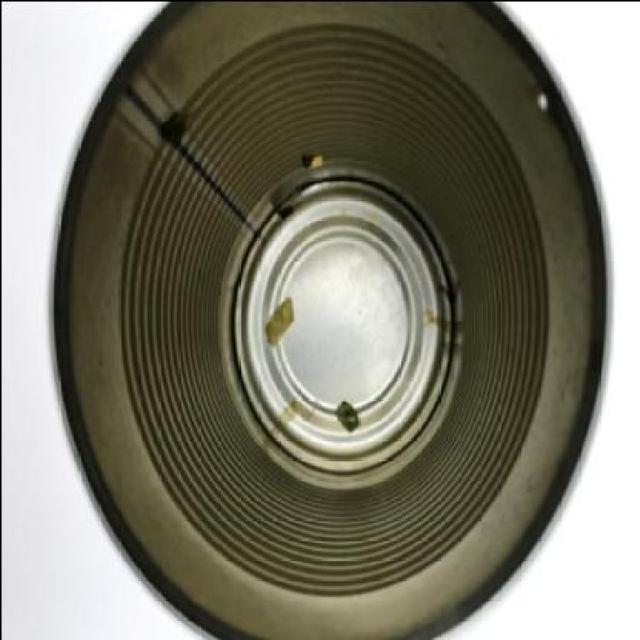METAL: (48, 1, 612, 638)
